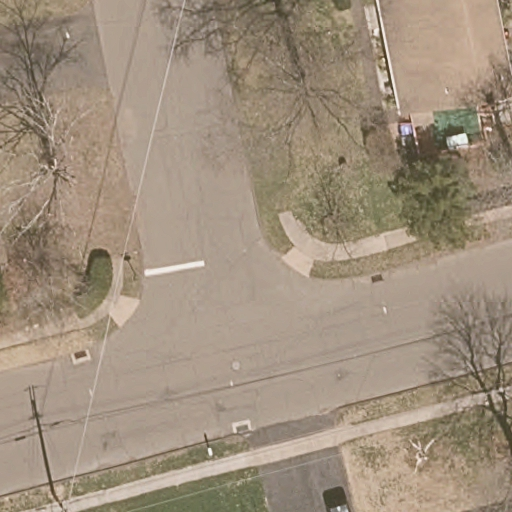DT: (50, 492, 73, 512)
